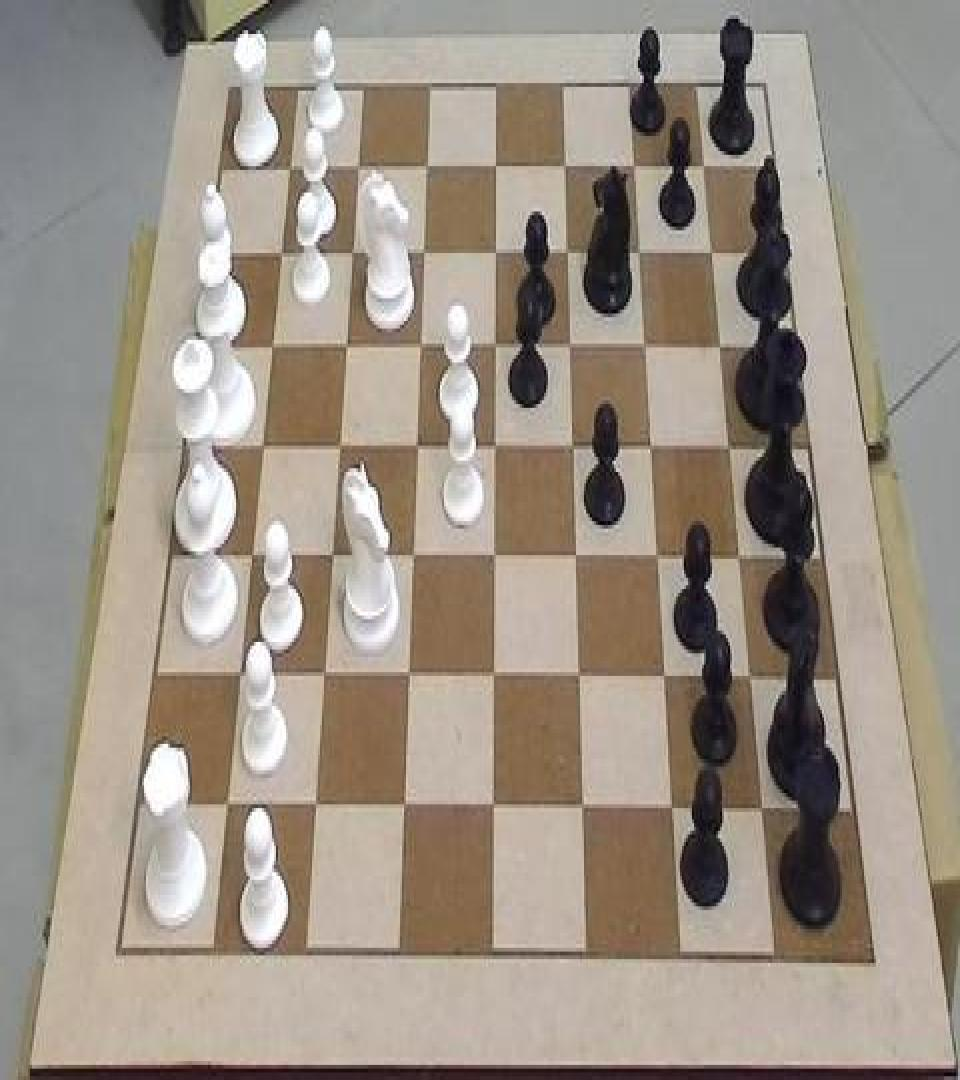xcorner: (711, 330, 731, 369), (635, 330, 655, 369), (560, 330, 580, 369), (485, 330, 505, 369), (410, 330, 430, 369), (335, 330, 355, 369), (260, 330, 280, 369), (694, 151, 714, 189), (624, 151, 644, 189), (554, 151, 574, 189), (485, 151, 505, 189), (415, 151, 435, 189), (346, 153, 366, 191), (277, 153, 297, 191), (702, 238, 722, 276), (629, 238, 649, 276), (557, 238, 577, 276), (485, 238, 505, 276), (412, 238, 432, 276), (340, 238, 360, 276), (269, 238, 289, 276), (721, 432, 741, 470), (642, 432, 662, 470), (563, 432, 583, 470), (485, 432, 505, 470), (407, 432, 427, 470), (329, 432, 349, 470), (251, 432, 271, 470), (731, 542, 751, 580), (649, 542, 669, 580), (567, 542, 587, 580), (485, 542, 505, 580), (403, 542, 423, 580), (322, 540, 342, 578), (241, 540, 261, 578), (742, 660, 762, 698), (656, 660, 676, 698), (571, 660, 591, 698), (485, 660, 505, 698), (400, 660, 420, 698), (314, 660, 334, 698), (229, 660, 249, 698), (755, 793, 775, 831), (665, 793, 685, 831), (575, 793, 595, 831), (485, 791, 505, 829), (396, 791, 416, 829), (306, 791, 326, 829), (217, 791, 237, 829)
